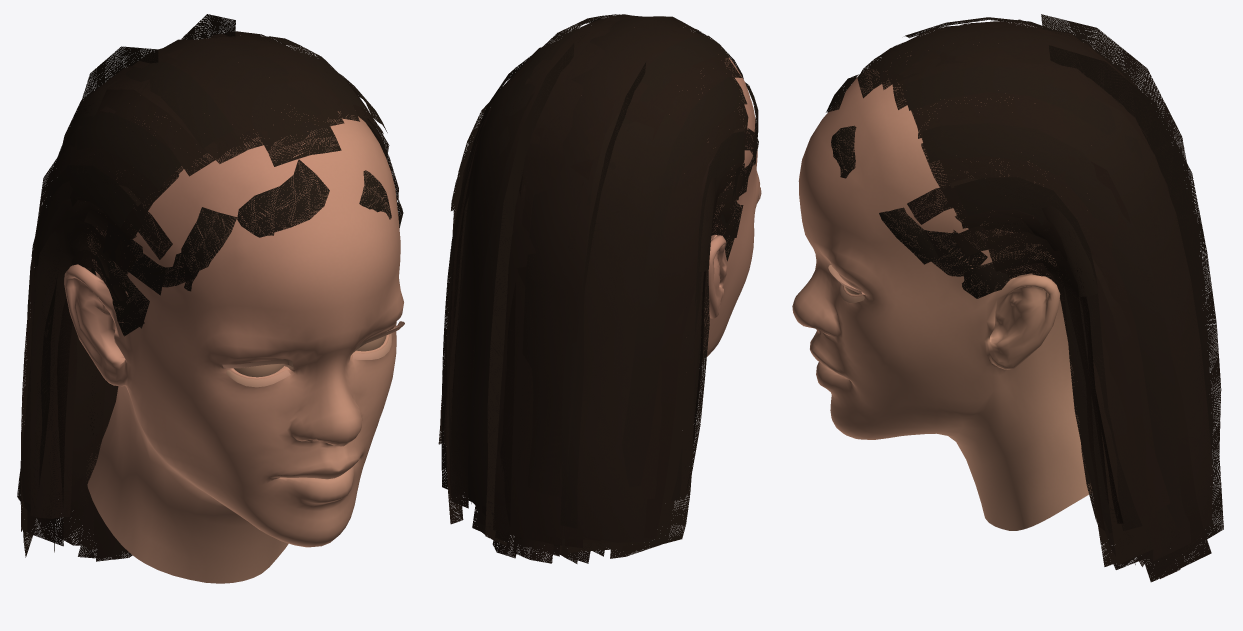
The model's file is rihanna.glb.
3 renders of one model, left to right at view 1: azimuth 30°, elevation 25°; view 2: azimuth 150°, elevation 25°; view 3: azimuth 270°, elevation 25°, orthographic. The views are drawn at different scales.
Parts seen in each view (by area): view 1: head_low, haircards_low, lashes, eyes_low, lashes1; view 2: haircards_low, head_low; view 3: haircards_low, head_low.
Boxes of the visible parts, x1,y1,x2,y2 form: head_low: [64, 111, 403, 583]; haircards_low: [17, 14, 403, 561]; lashes: [222, 321, 404, 386]; eyes_low: [234, 335, 386, 377]; lashes1: [222, 324, 404, 387]; haircards_low: [438, 14, 758, 563]; head_low: [703, 58, 759, 356]; haircards_low: [826, 14, 1223, 582]; head_low: [792, 55, 1091, 530].
Bounding box in the file's own units: 0.00984 × 0.0191 × 0.0132.
Materials: 2 (2 with a texture image).
